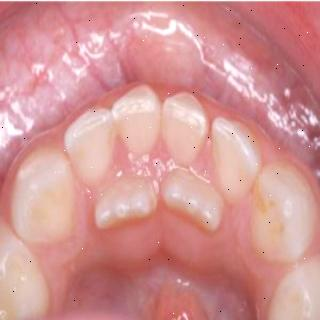maligned: (156, 169, 221, 243), (90, 179, 160, 243)
